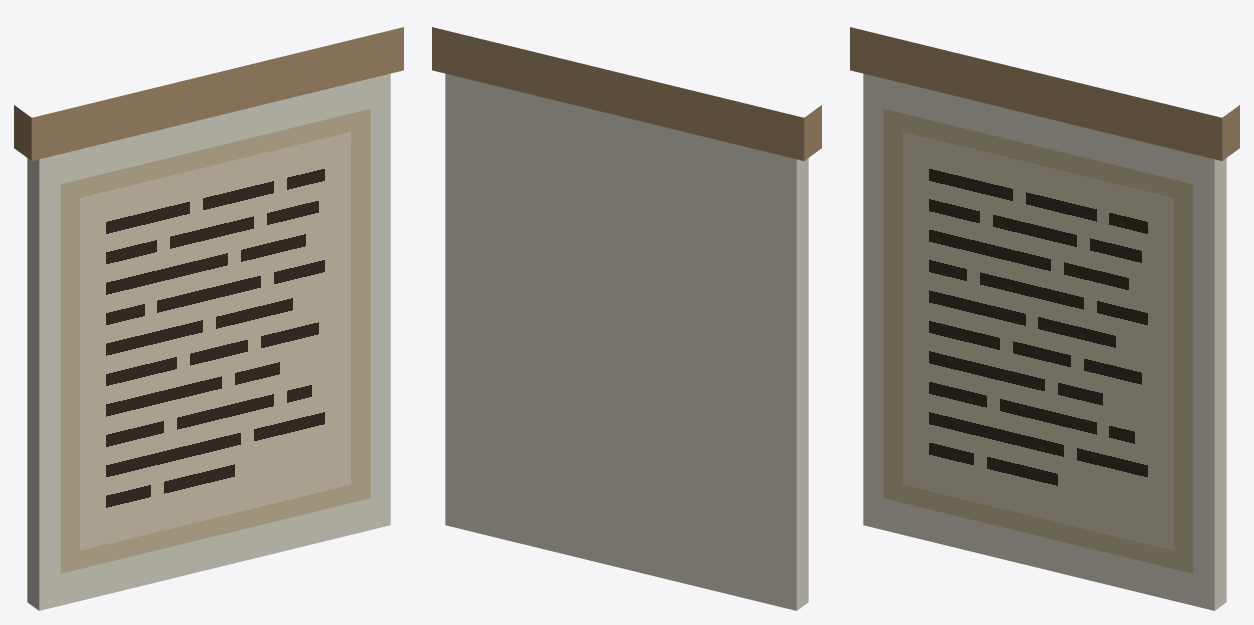
The model's file is note.glb.
The picture shows the model from 3 angles, left to right: view 1: azimuth 30°, elevation 25°; view 2: azimuth 150°, elevation 25°; view 3: azimuth 330°, elevation 25°; orthographic projection.
Parts seen in each view (by area): view 1: note; view 2: note; view 3: note.
Boxes of the visible parts, left/top/right/bottom form: note: left=14, top=27, right=403, bottom=610; note: left=432, top=27, right=821, bottom=610; note: left=850, top=27, right=1239, bottom=610.
Bounding box in the file's own units: 0.3599 × 0.46 × 0.0298.
Materials: 3 (1 with a texture image).
